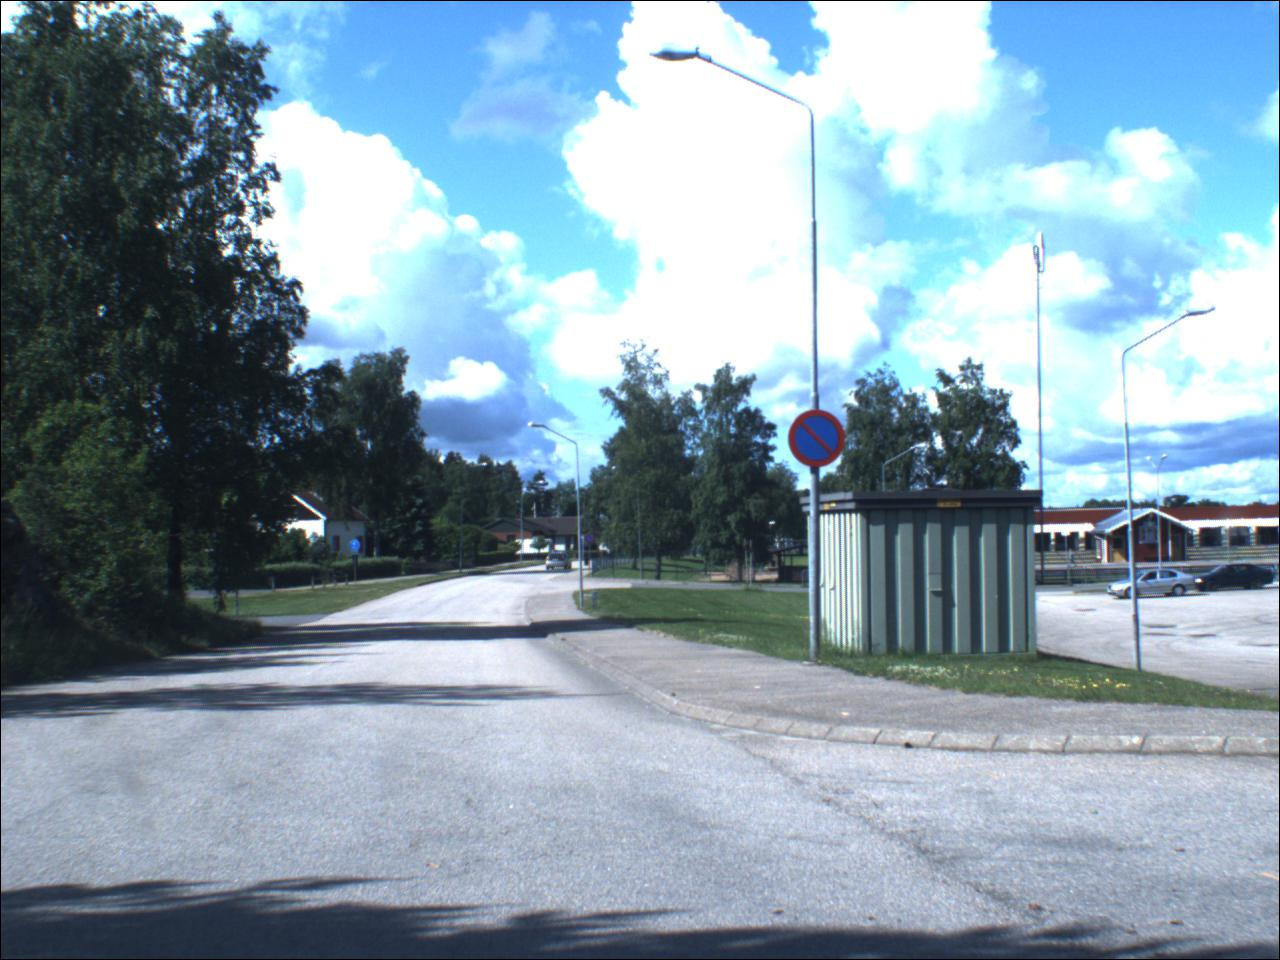NO_PARKING: (789, 410, 855, 472)
